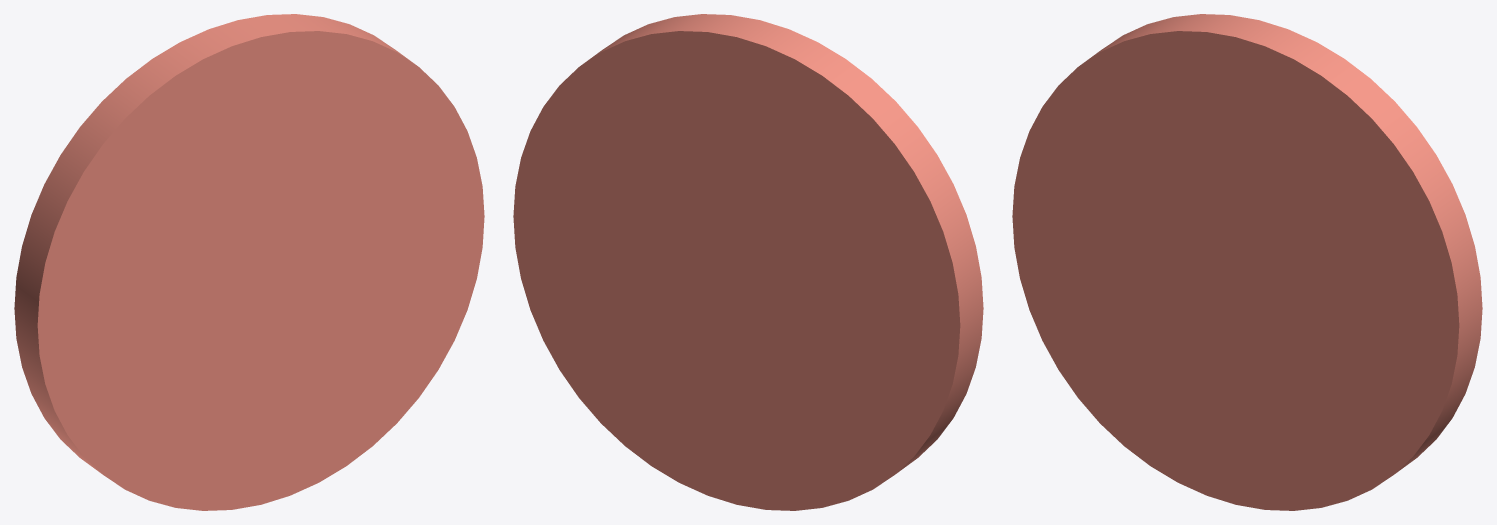
The model's file is badge_95.glb.
The picture shows the model from 3 angles, left to right: view 1: azimuth 30°, elevation 25°; view 2: azimuth 150°, elevation 25°; view 3: azimuth 330°, elevation 25°; orthographic projection.
Parts seen in each view (by area): view 1: badge; view 2: badge; view 3: badge.
Part boxes in pixels (x1,y1,x2,y2): badge: (14, 14, 484, 510); badge: (513, 14, 983, 510); badge: (1012, 14, 1482, 510).
Bounding box in the file's own units: 2 × 2 × 0.18.
